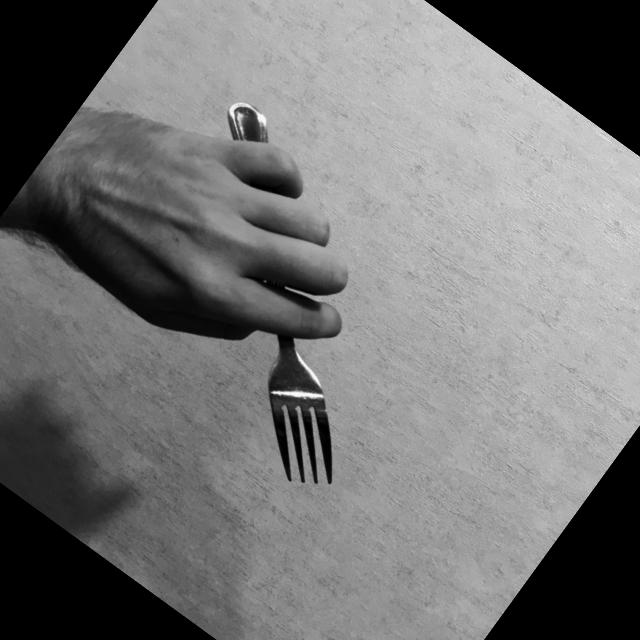fork: (72, 92, 488, 504)
